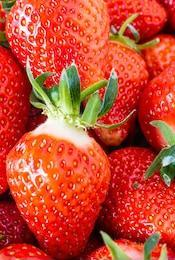Fresa: (5, 116, 113, 260), (2, 1, 117, 108), (81, 36, 148, 147)
